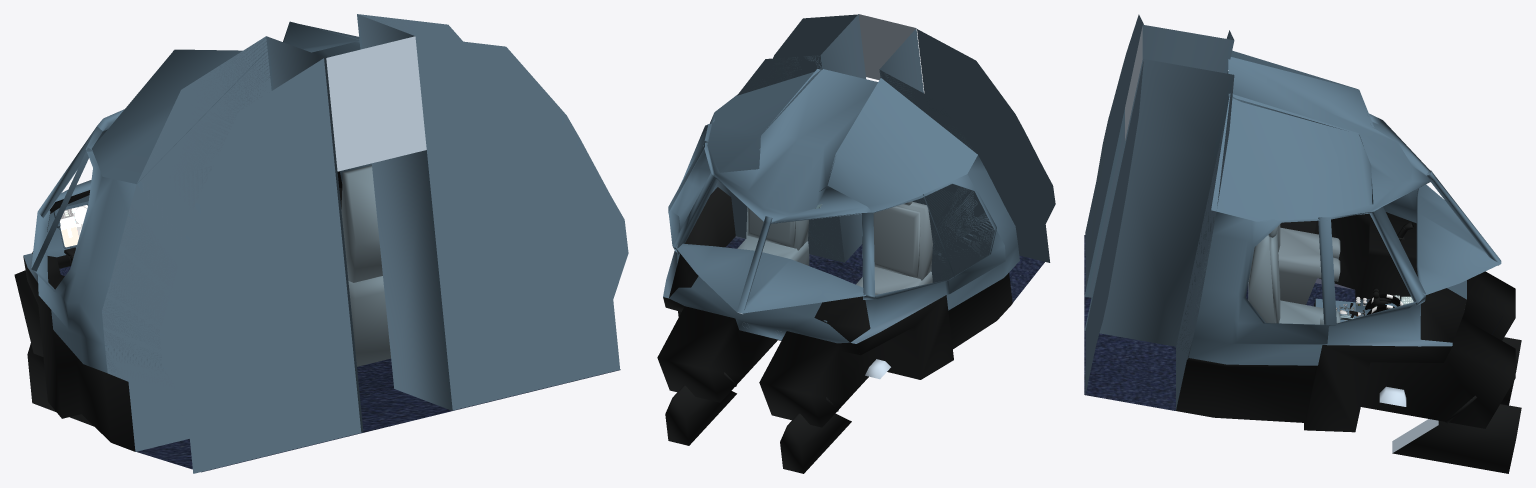
3 renders of one model, left to right at view 1: azimuth 30°, elevation 25°; view 2: azimuth 150°, elevation 25°; view 3: azimuth 270°, elevation 25°, orthographic. The views are drawn at different scales.
Parts seen in each view (by area): view 1: static-material-3, static-material-15, static-material-12, static-material-4, live_pfd_1; view 2: static-material-3, static-material-12, static-material-15, static-material-4; view 3: static-material-3, static-material-4, static-material-12, static-material-15.
Part boxes in pixels (x1,y1,x2,y2): static-material-3: (14,14,628,473); static-material-15: (326,36,426,171); static-material-12: (341,165,390,366); static-material-4: (59,266,620,472); live_pfd_1: (60,205,87,247); static-material-3: (657,14,1055,473); static-material-12: (737,201,932,294); static-material-15: (737,14,915,379); static-material-4: (725,236,1044,302); static-material-3: (1084,14,1521,473); static-material-4: (1084,235,1502,410); static-material-12: (1248,224,1340,324); static-material-15: (1125,26,1438,452).
Size of what is drawn, in the model's own units: 2.87 by 2.85 by 2.87.
Materials: 70 (61 with a texture image).
